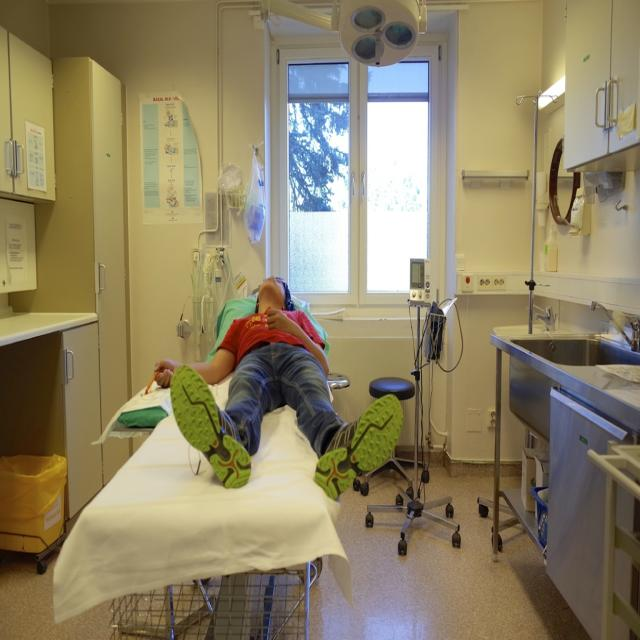Person: (153, 276, 404, 499)
